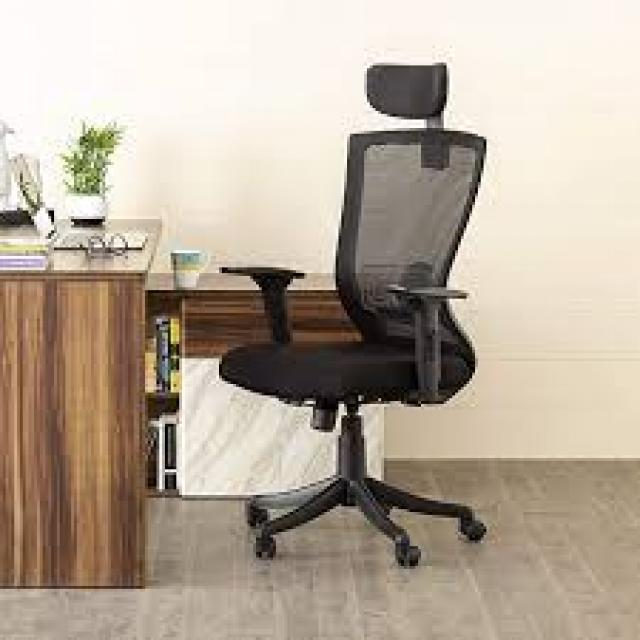chair: (219, 58, 487, 572)
